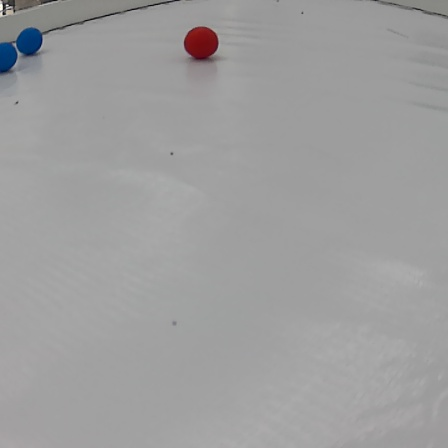blue: (17, 27, 44, 52), (0, 42, 19, 76)
red: (182, 26, 220, 59)
